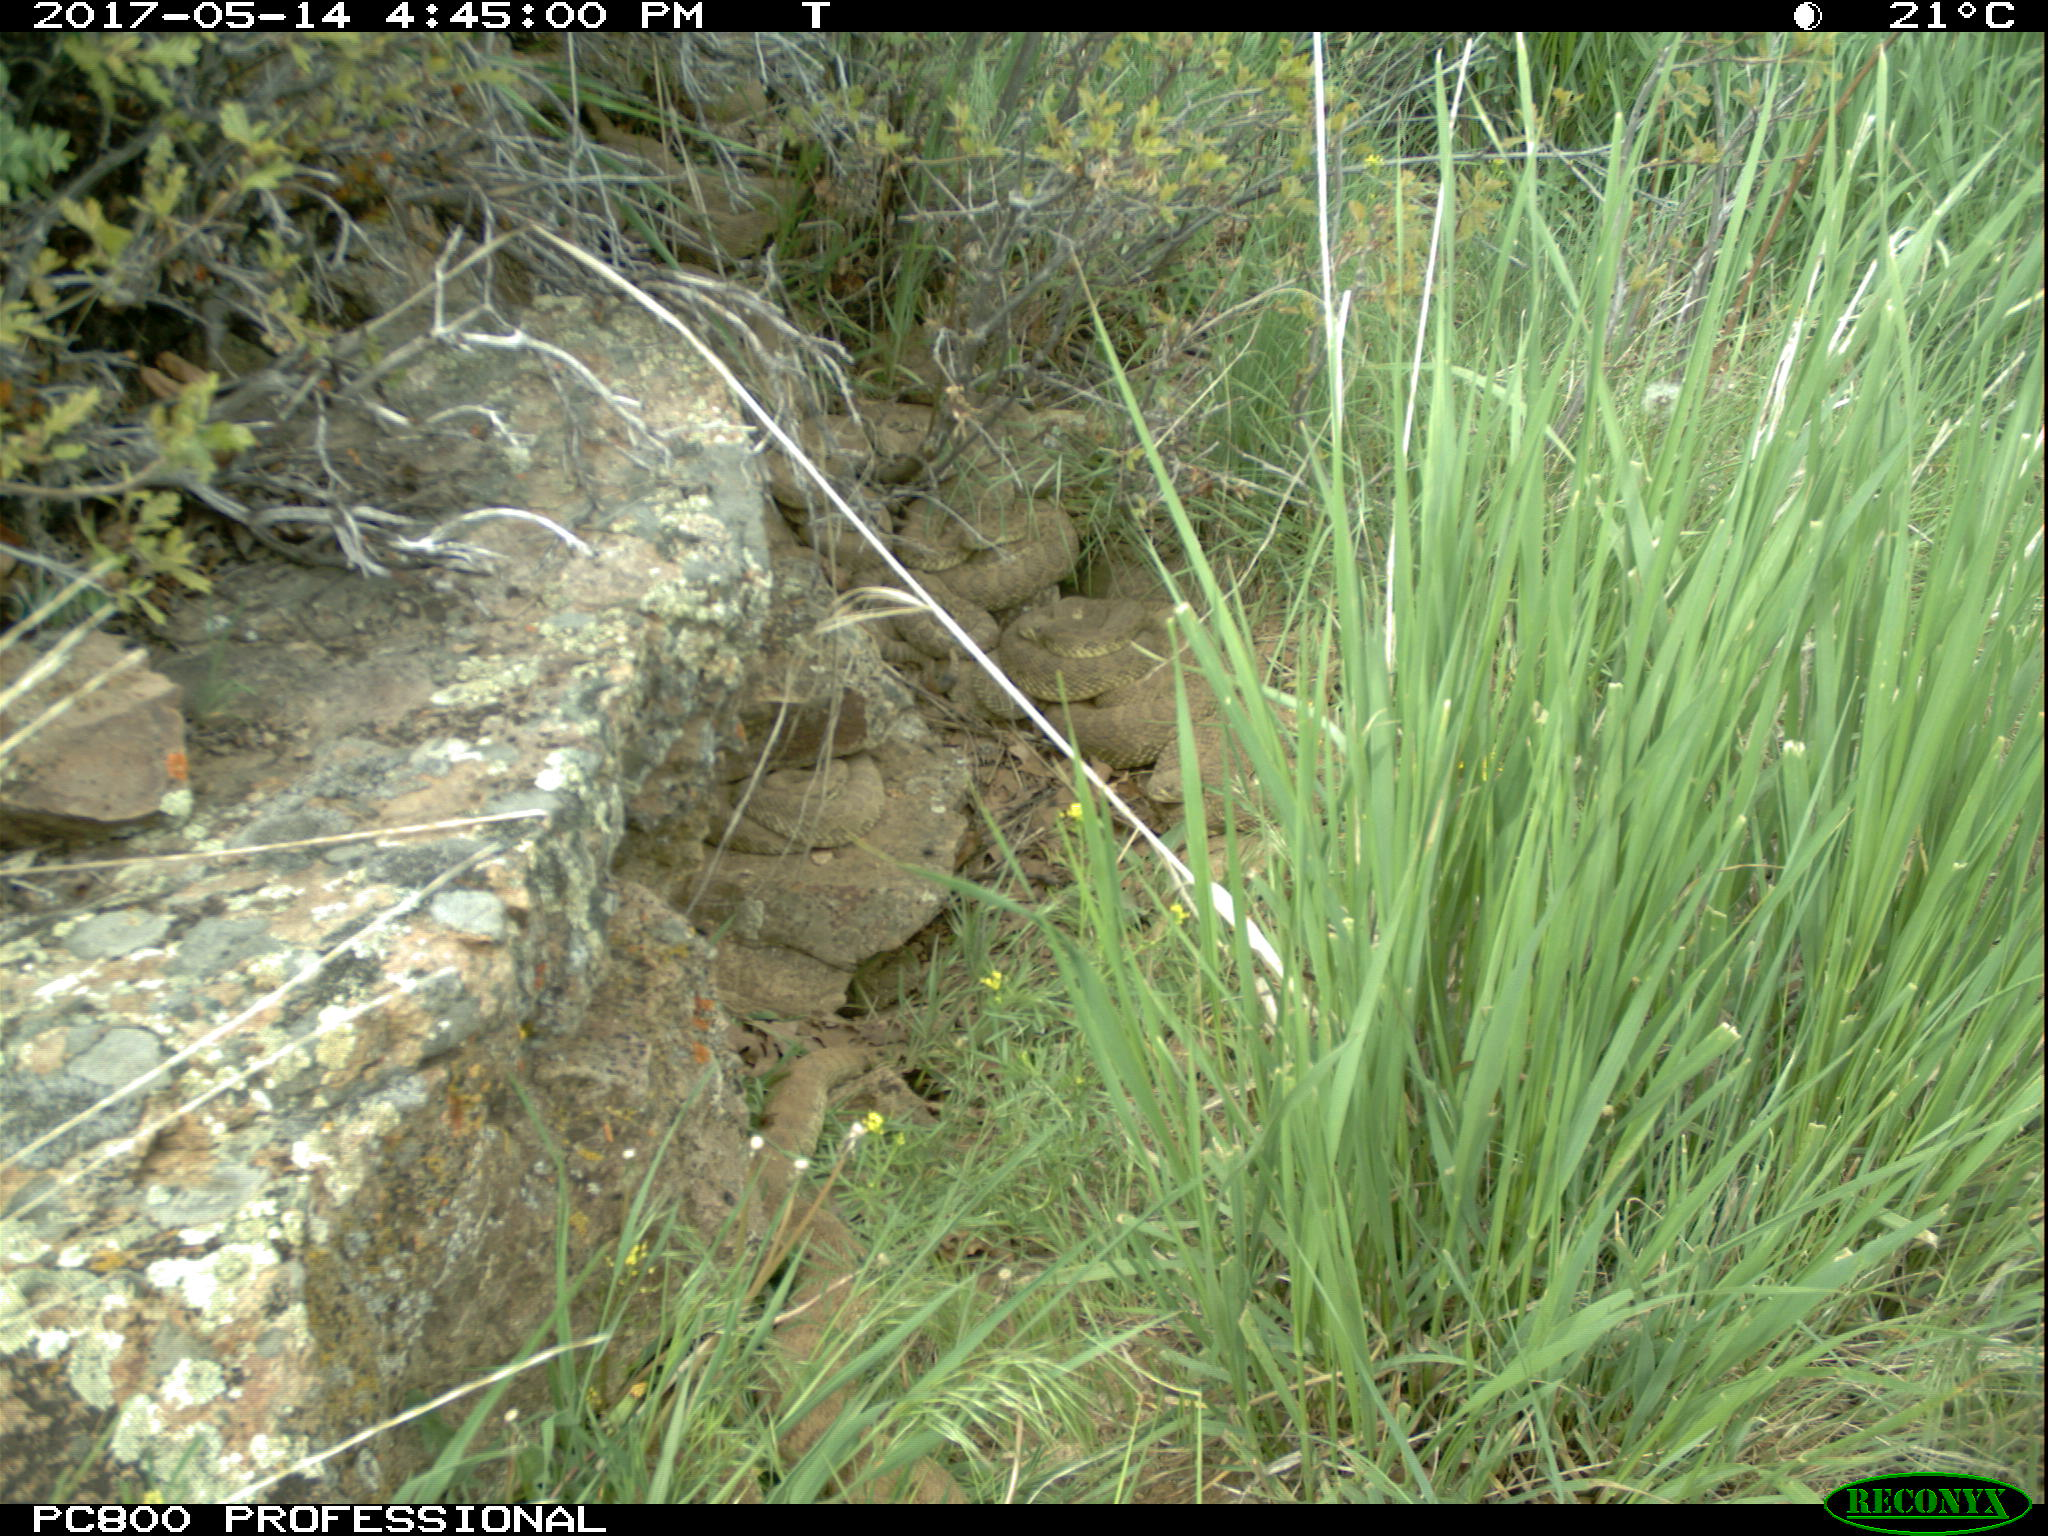snake: (753, 1042, 929, 1501), (976, 592, 1193, 720), (1134, 705, 1330, 841), (906, 486, 1077, 611), (706, 752, 889, 857), (669, 165, 813, 269), (848, 565, 998, 657), (1042, 694, 1197, 766)
